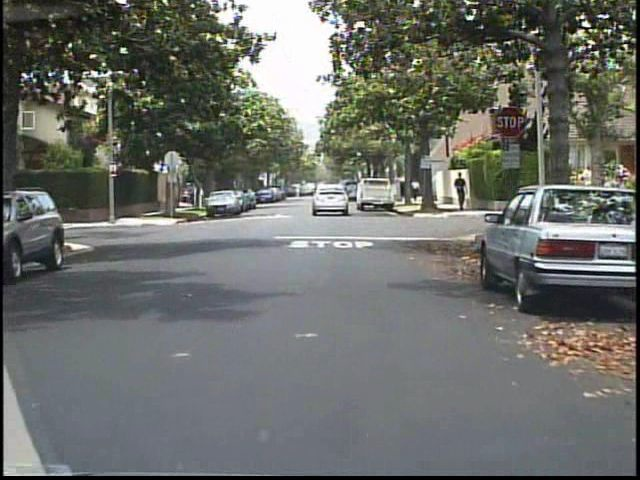person: (451, 169, 473, 216), (411, 176, 422, 204)
